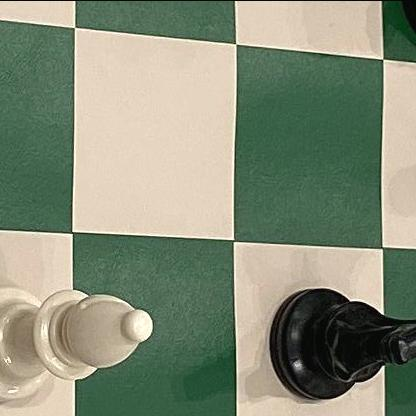black-knight: (266, 276, 416, 416)
white-bishop: (0, 274, 171, 416)
